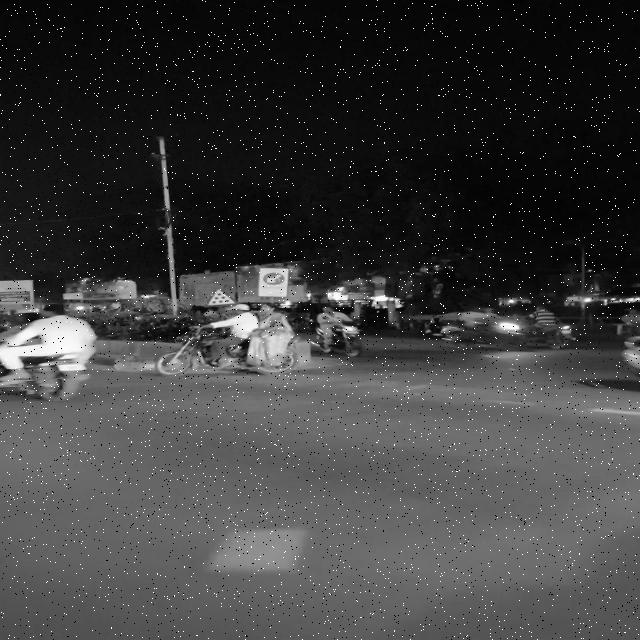compulsory_keep_left: (263, 273, 285, 285)
